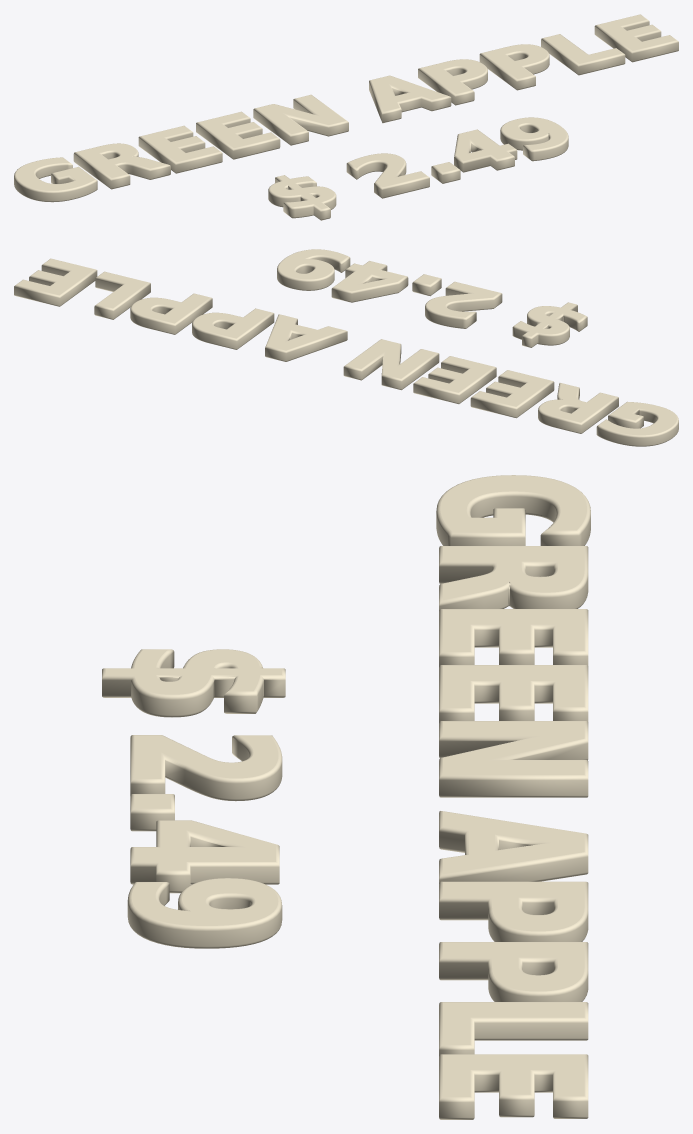
File: SM_EG_Produce_price_dcef24d548.fbx
3 renders of one model, top to bottom at view 1: azimuth 30°, elevation 25°; view 2: azimuth 150°, elevation 25°; view 3: azimuth 270°, elevation 25°, orthographic. The views are drawn at different scales.
Visible parts, largest first — view 1: SM_EG_Produce_price_dcef24d548; view 2: SM_EG_Produce_price_dcef24d548; view 3: SM_EG_Produce_price_dcef24d548.
Boxes of the visible parts, bbox=[...] form: SM_EG_Produce_price_dcef24d548: bbox=[14, 14, 678, 220]; SM_EG_Produce_price_dcef24d548: bbox=[14, 249, 678, 446]; SM_EG_Produce_price_dcef24d548: bbox=[102, 475, 590, 1119].
Bounding box in the file's own units: 26.35 × 8.72 × 0.44.
